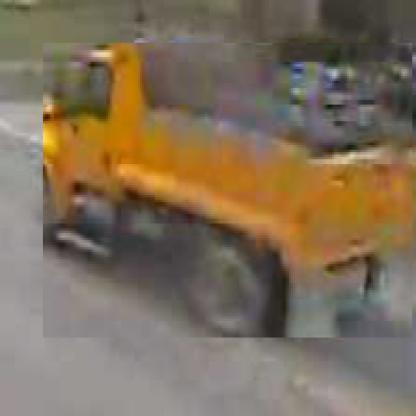truck: (44, 44, 415, 341)
